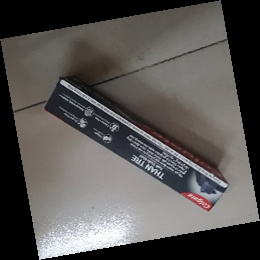Colgate Than: (44, 75, 230, 213)
